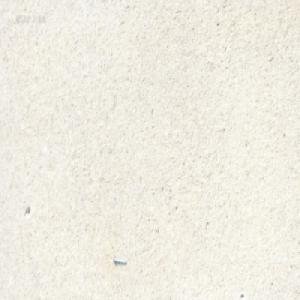Nail: (111, 255, 126, 265)
